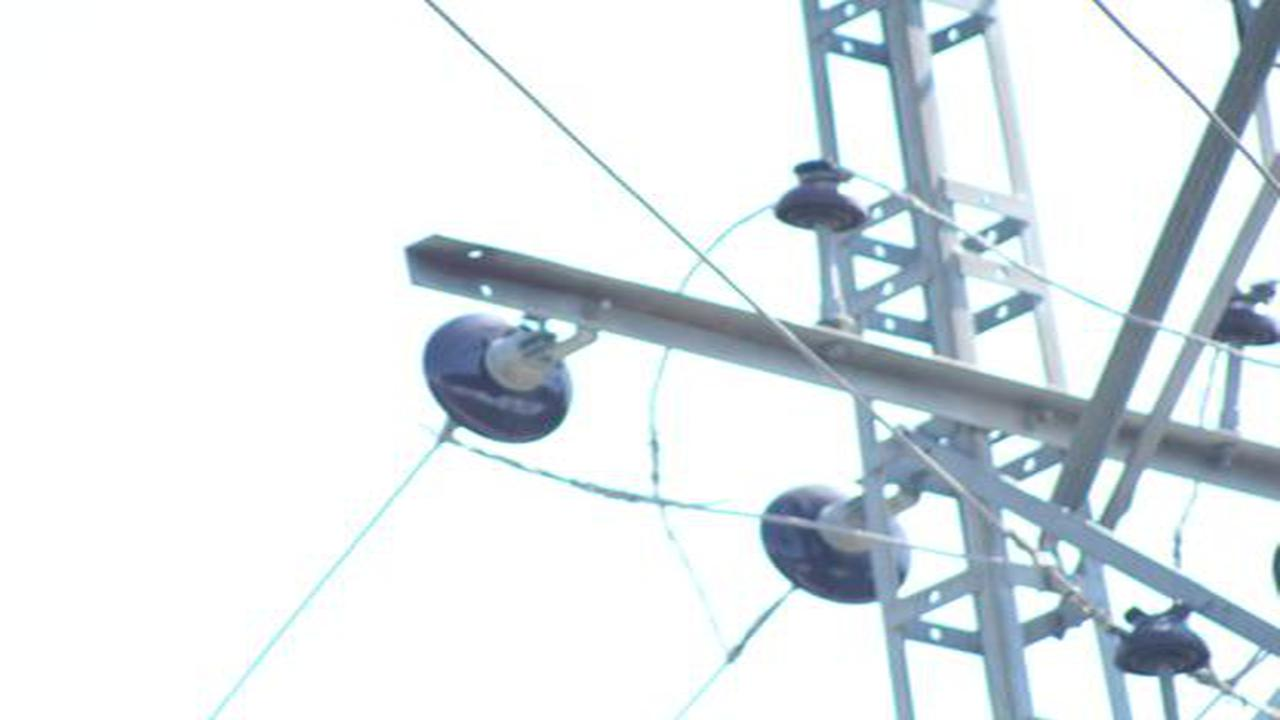insulator_disc: (422, 306, 579, 450), (757, 481, 917, 606)
insulator_pin: (1108, 596, 1217, 681), (771, 155, 871, 237), (1207, 280, 1270, 354)
